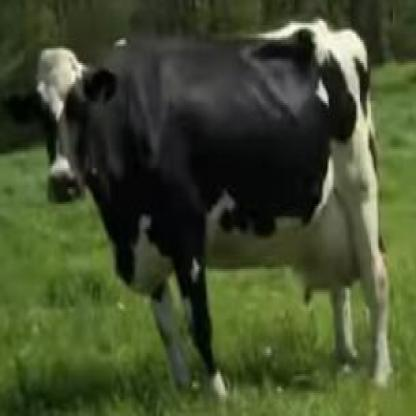cow: (11, 24, 390, 396)
